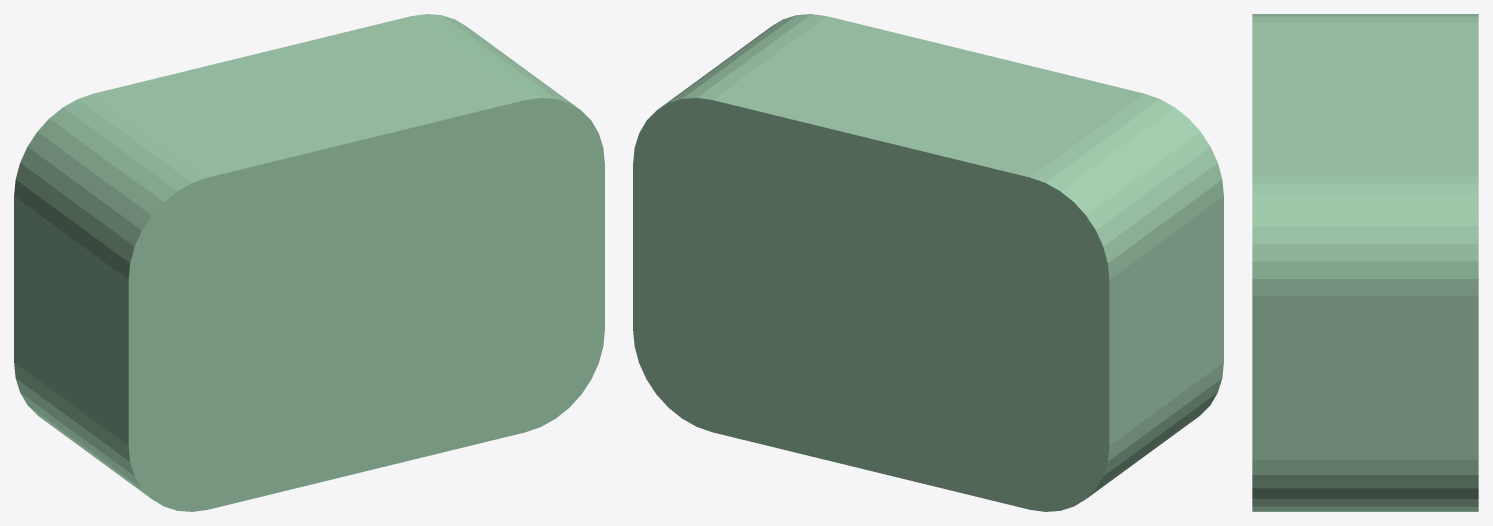
File: rbox_demo.glb
3 renders of one model, left to right at view 1: azimuth 30°, elevation 25°; view 2: azimuth 150°, elevation 25°; view 3: azimuth 270°, elevation 25°, orthographic.
Parts seen in each view (by area): view 1: rounded_box; view 2: rounded_box; view 3: rounded_box.
Boxes of the visible parts, x1,y1,x2,y2 form: rounded_box: (14,14,604,511); rounded_box: (633,14,1223,511); rounded_box: (1252,14,1478,511).
Size of the model in its own units: 24 by 16 by 10.
